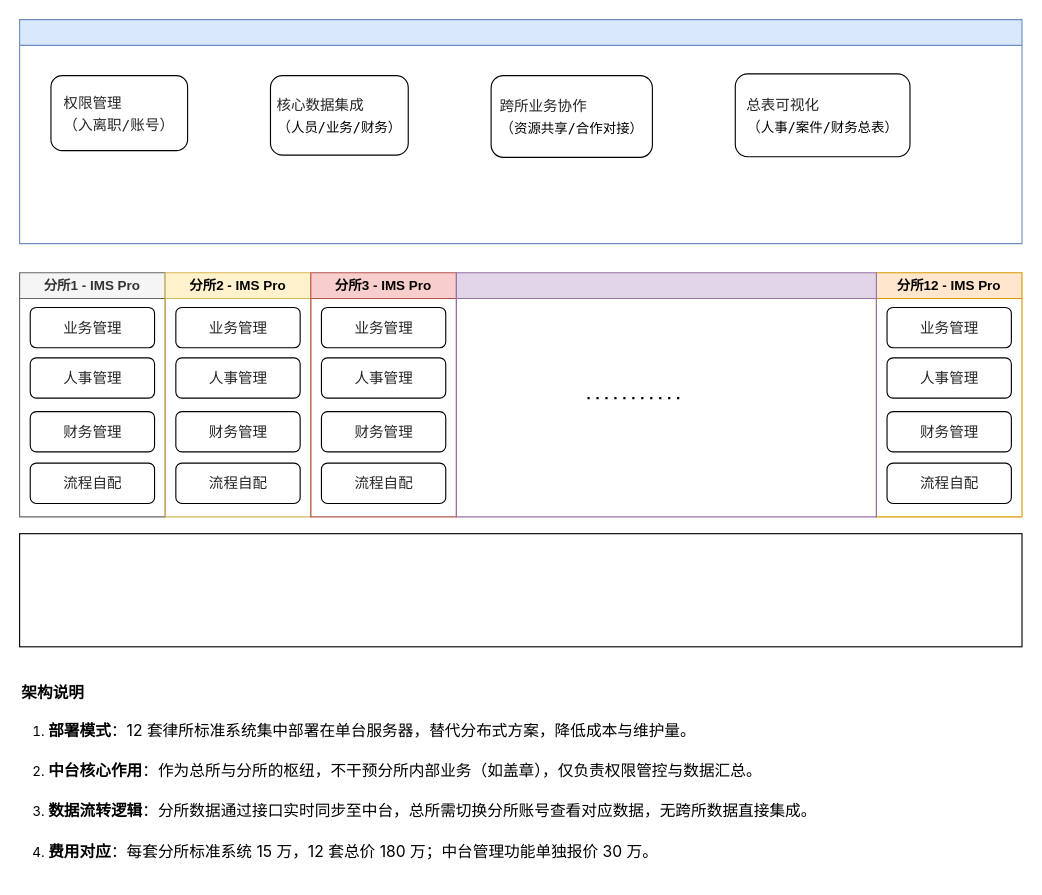
Some shapes in this 1042 by 895 pixel diagram are drawn without their labels. Here are the shapes that lost their labels. From the top down, the box of each, then its label:
(18, 18, 1022, 244): 中台管理系统
(455, 272, 876, 517): 分所 - IMS Pro
(18, 533, 1022, 647): 服务器
